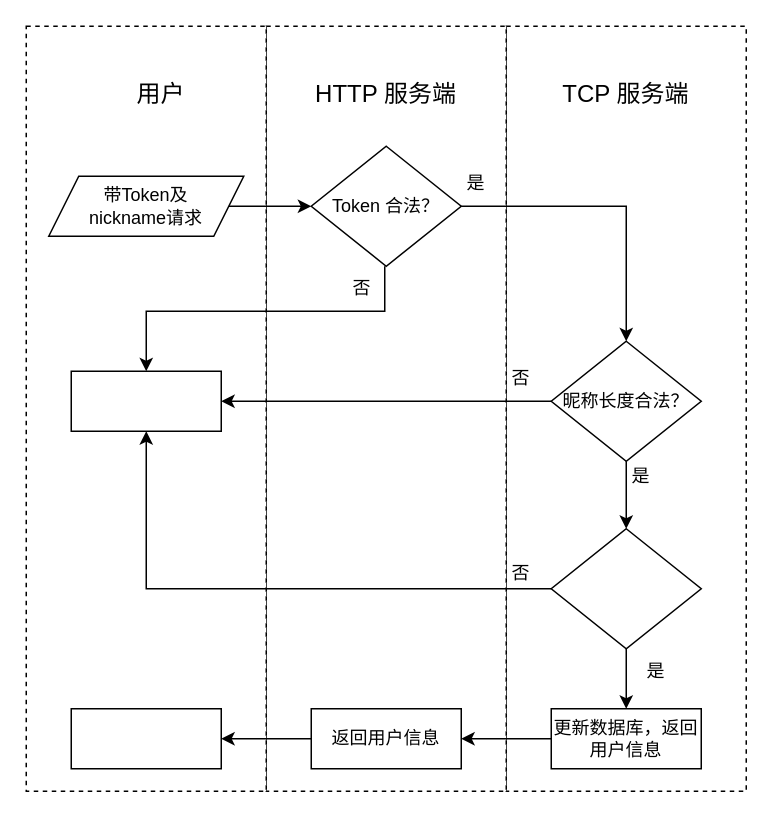
This 773x818 diagram has some shape labels left out. The centre of each missing label's shape, as x and y in pixels:
"用户更新失败" goes at pixel 145 400.
"用户更新成功" goes at pixel 145 738.
"账户存在？" goes at pixel 625 588.
